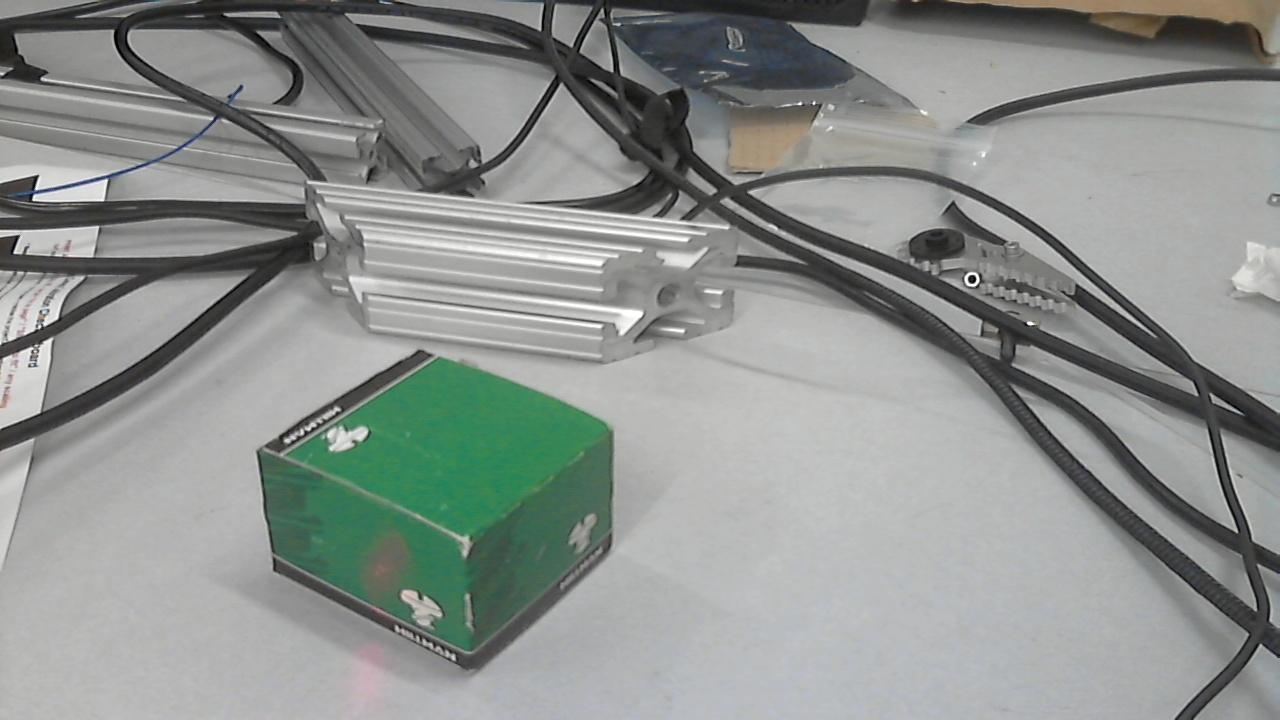Object screw packaging box - Material cardboard - Pdfname VgpKnmoKJfrS: (334, 515, 438, 617)
